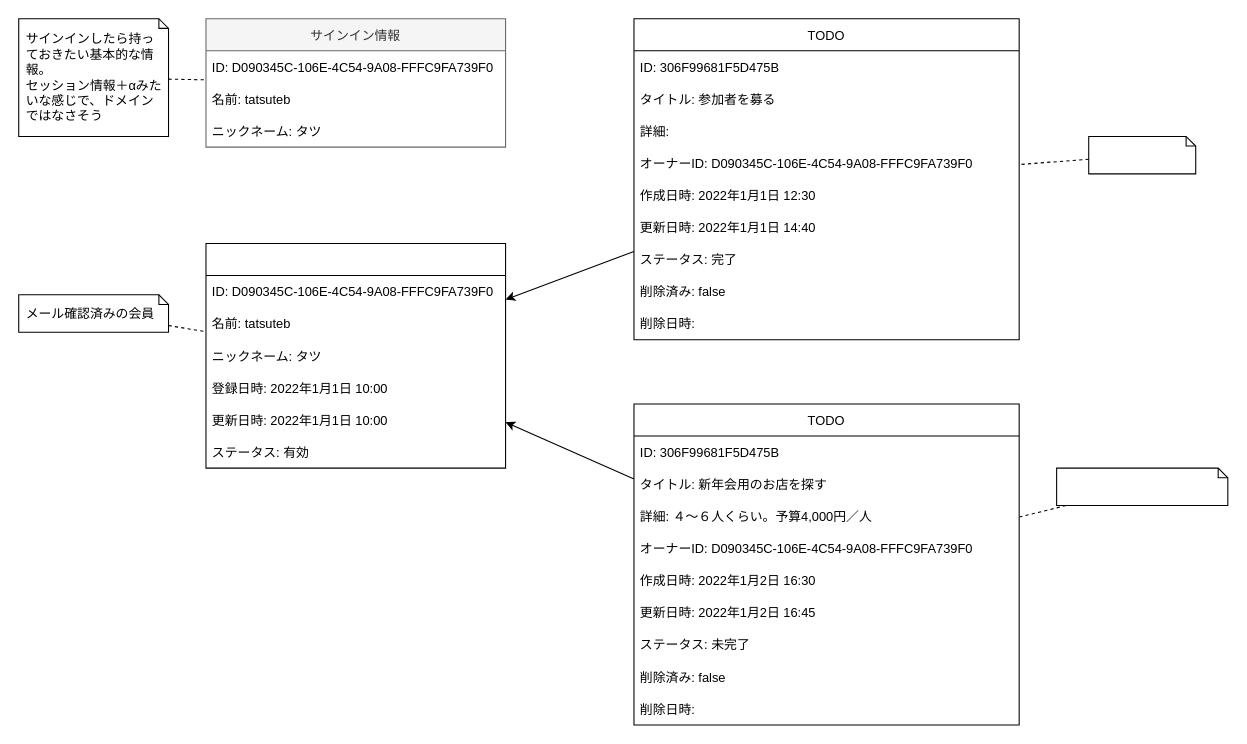
The diagram is 1247 pixels wide and 744 high, and some of its shapes have lost their labels. Here are the shapes that lost their labels. From the top down, the box of each, then its label:
(1088, 135, 1196, 174): 完了したTODO
(205, 242, 506, 468): ユーザー
(1056, 467, 1228, 506): まだ完了していないTODO
